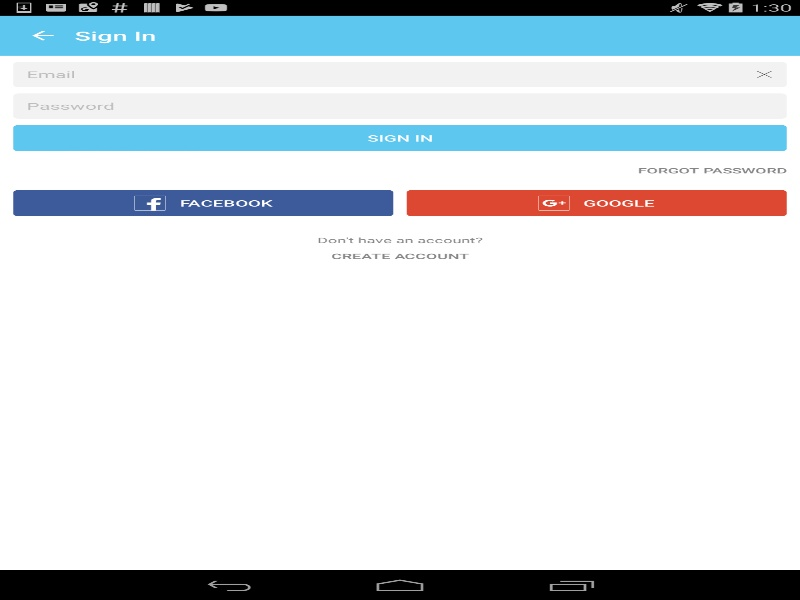Button: (0, 18, 74, 53)
Input: (13, 61, 786, 87), (13, 93, 786, 118)
